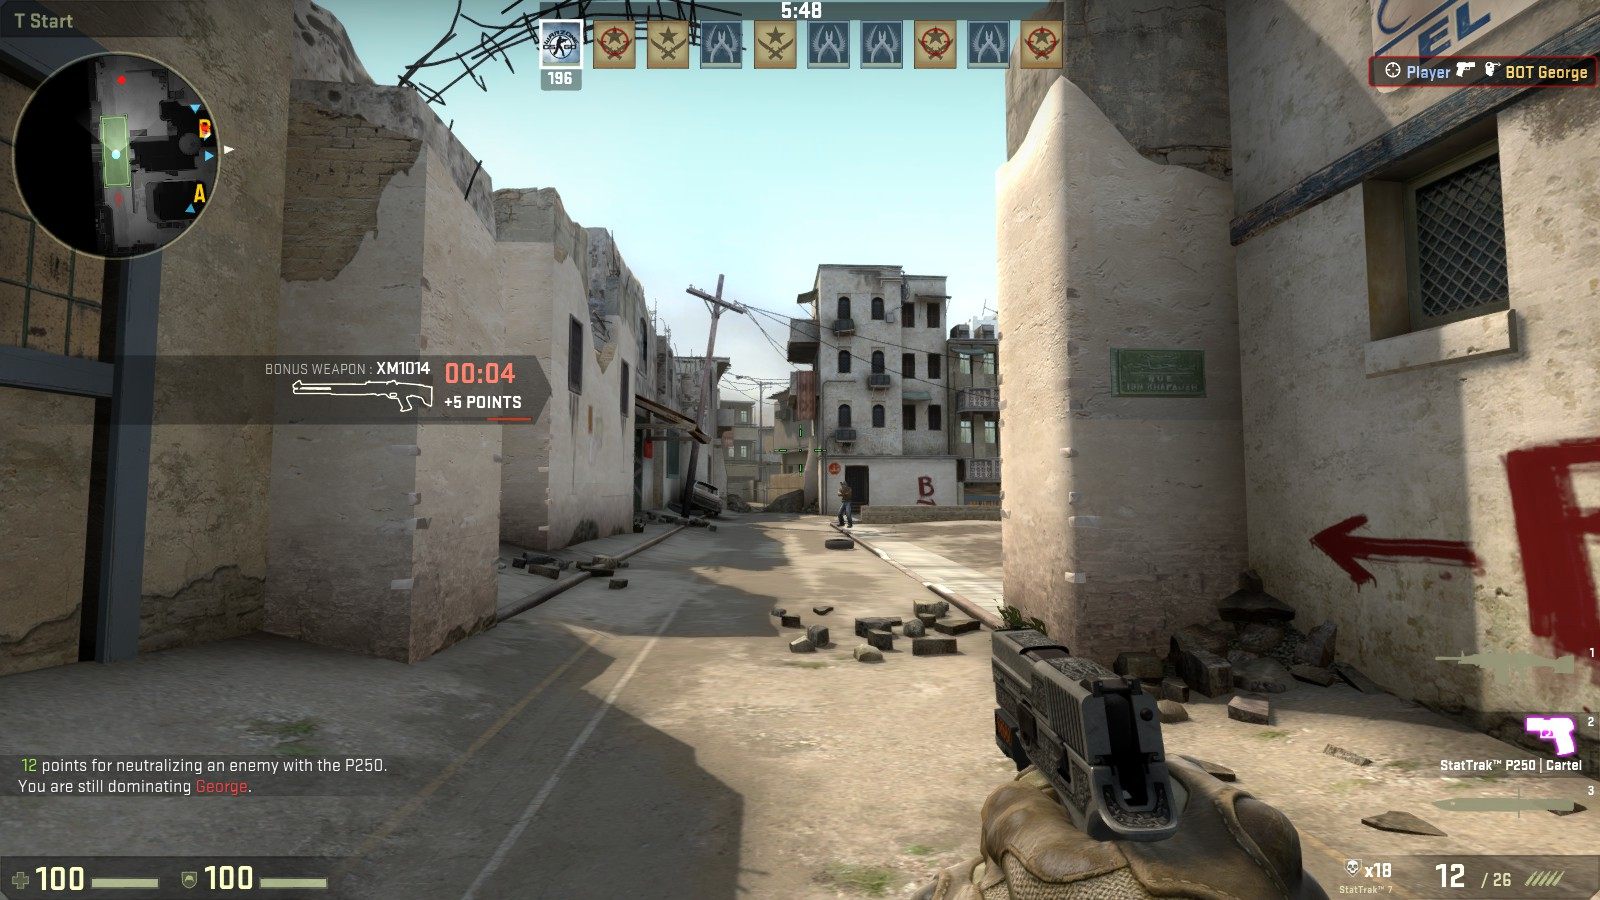t: (837, 480, 853, 527)
th: (840, 481, 849, 490)
